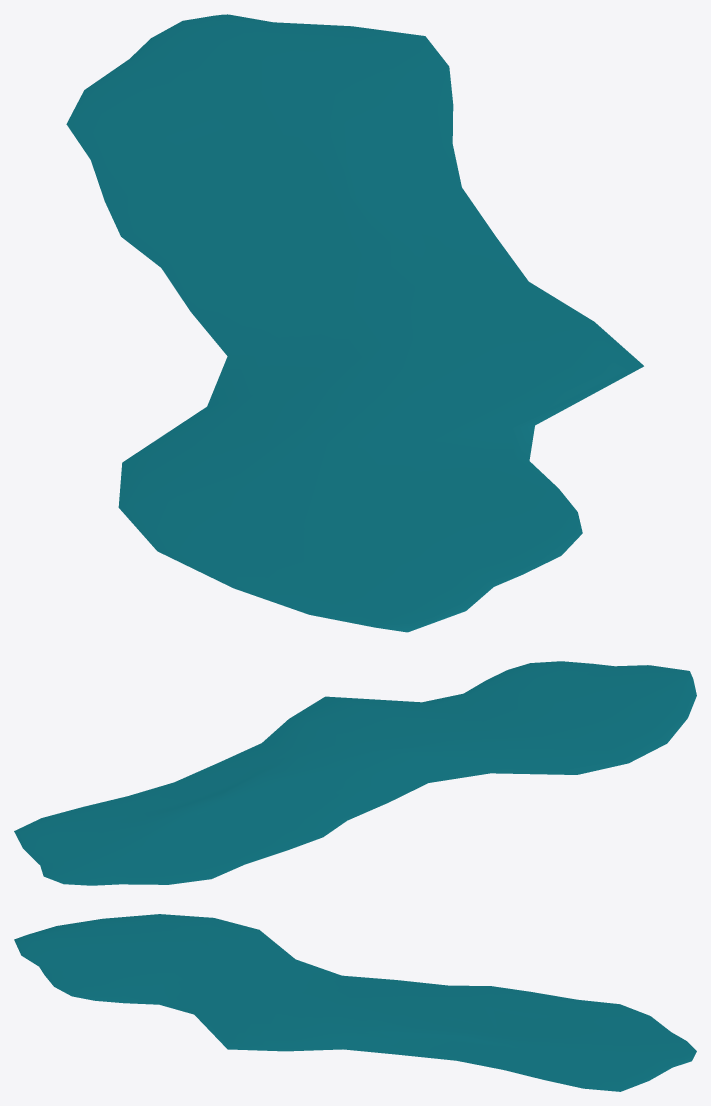
Rendered from Lake1.fbx.
3 renders of one model, top to bottom at view 1: azimuth 30°, elevation 25°; view 2: azimuth 150°, elevation 25°; view 3: azimuth 270°, elevation 25°, orthographic. The views are drawn at different scales.
Parts seen in each view (by area): view 1: Lake1; view 2: Lake1; view 3: Lake1.
Part boxes in pixels (x1,y1,x2,y2): Lake1: [66, 14, 643, 632]; Lake1: [14, 661, 696, 885]; Lake1: [14, 914, 696, 1091].
Bounding box in the file's own units: 1487 × 10.08 × 2413.
1 material, 1 textured.
